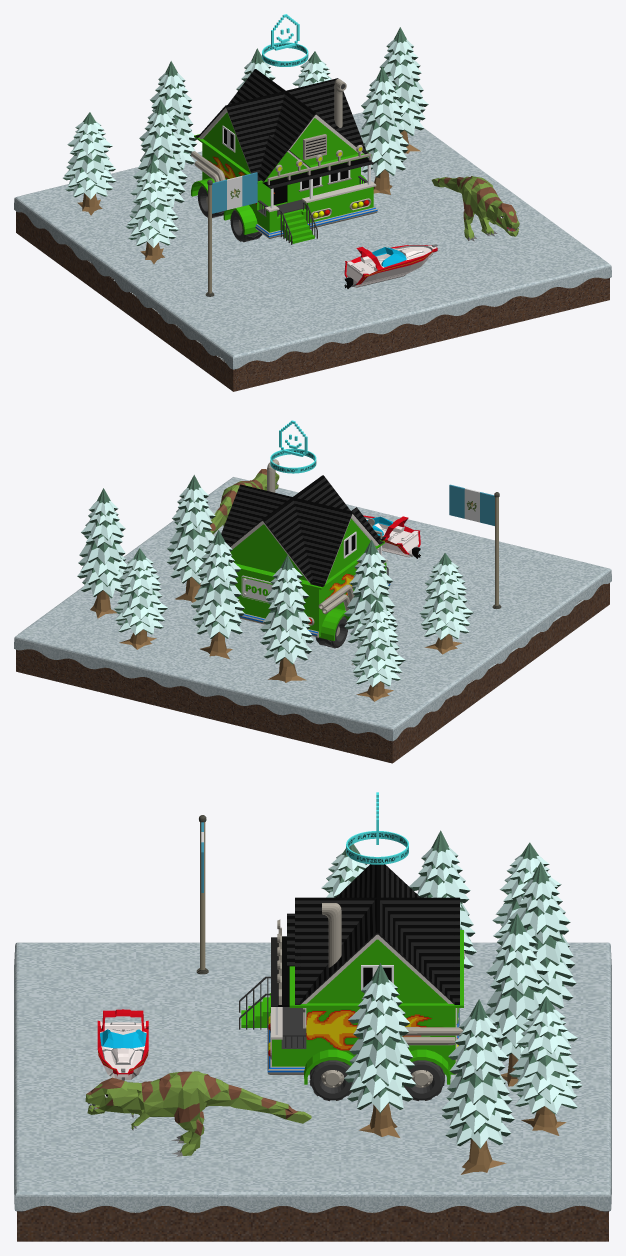
3 views of the same model, one above another, from view 1: azimuth 30°, elevation 25°; view 2: azimuth 150°, elevation 25°; view 3: azimuth 270°, elevation 25° (orthographic). The views are drawn at different scales.
Visible parts, largest first — view 1: Cube.003, Cube.1474, ANIMAL_TREX, VEHICLES_BOAT, OBJRANDOM_GUATEMALAN_FLAG, TYPE_PREMIUM; view 2: Cube.003, Cube.1474, OBJRANDOM_GUATEMALAN_FLAG, VEHICLES_BOAT, ANIMAL_TREX, TYPE_PREMIUM; view 3: Cube.003, Cube.1474, ANIMAL_TREX, VEHICLES_BOAT, TYPE_PREMIUM, OBJRANDOM_GUATEMALAN_FLAG.
Boxes of the visible parts, x1,y1,x2,y2 form: Cube.003: [14, 27, 611, 391]; Cube.1474: [191, 69, 377, 244]; ANIMAL_TREX: [431, 176, 519, 241]; VEHICLES_BOAT: [344, 244, 437, 288]; OBJRANDOM_GUATEMALAN_FLAG: [205, 172, 257, 296]; TYPE_PREMIUM: [262, 14, 308, 66]; Cube.003: [14, 475, 611, 763]; Cube.1474: [221, 459, 390, 648]; OBJRANDOM_GUATEMALAN_FLAG: [449, 484, 501, 608]; VEHICLES_BOAT: [363, 515, 420, 558]; ANIMAL_TREX: [210, 469, 279, 534]; TYPE_PREMIUM: [270, 420, 316, 473]; Cube.003: [14, 830, 611, 1241]; Cube.1474: [239, 864, 464, 1101]; ANIMAL_TREX: [85, 1071, 311, 1156]; VEHICLES_BOAT: [97, 1009, 148, 1080]; TYPE_PREMIUM: [346, 792, 408, 864]; OBJRANDOM_GUATEMALAN_FLAG: [196, 815, 208, 974].
Bounding box in the file's own units: 4040 × 2568 × 4040.
39 materials, 5 textured.
